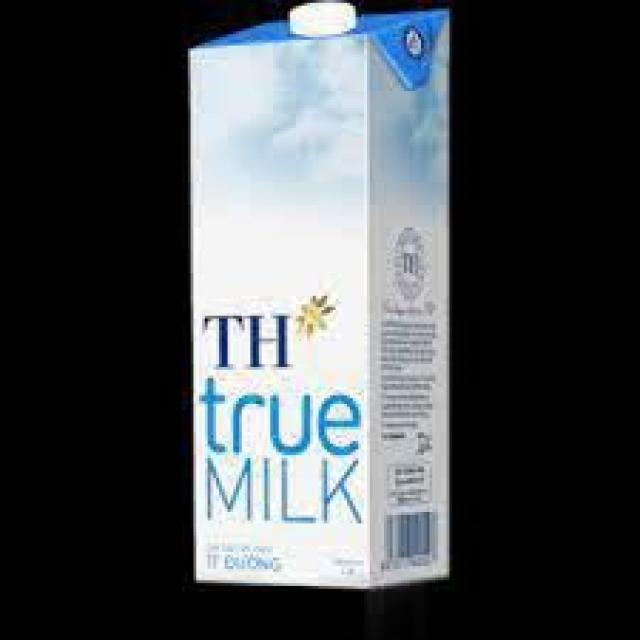non_white_jug: (162, 3, 481, 606)
